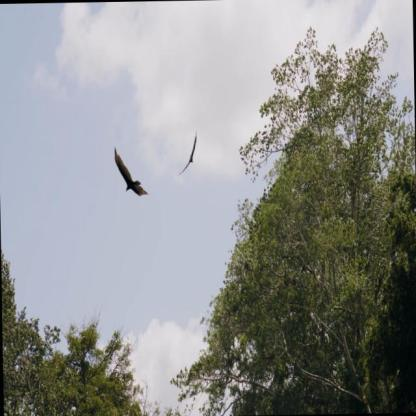bird: (114, 145, 149, 198), (176, 129, 199, 178)
